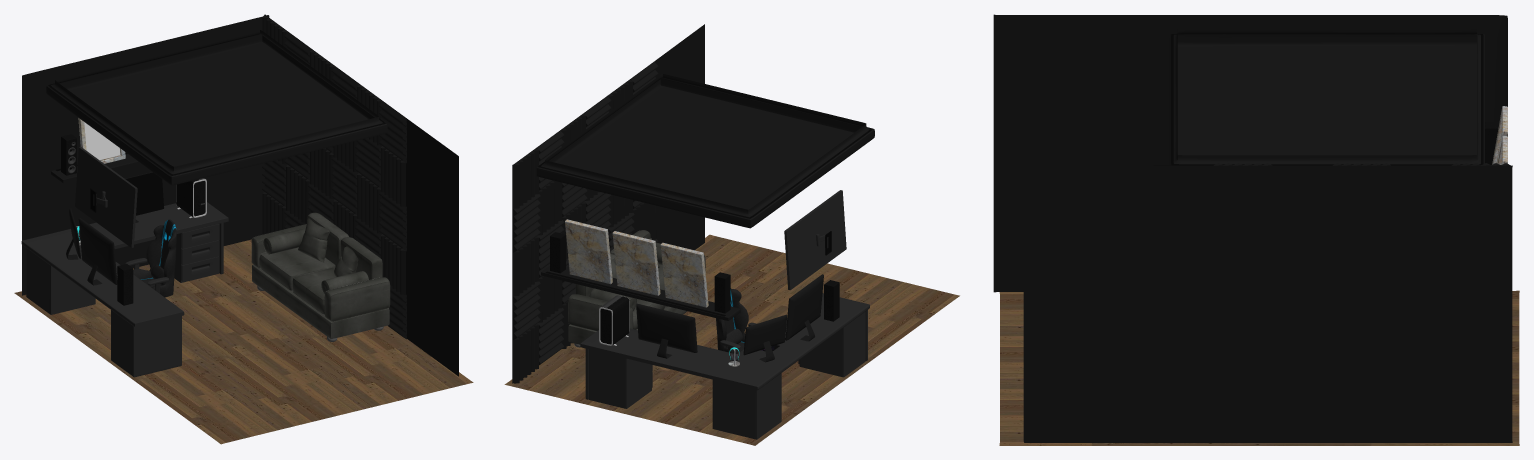
The model's file is modern-neon-room.glb.
3 renders of one model, left to right at view 1: azimuth 30°, elevation 25°; view 2: azimuth 150°, elevation 25°; view 3: azimuth 270°, elevation 25°, orthographic. The views are drawn at different scales.
Visible parts, largest first — view 1: MCN Floor.Shape, MCN Ceiling.Shape, MCN Textured Wall.Shape, MCN Walls.Shape, MCN Desk.Shape, MCN Couch.Shape, MCN TV.Shape, MCN Gaming Chair.Shape, MCN Screen Large.Shape, MCN Screen Medium.Shape, MCN Artwork Frame_dup_3.Shape, MCN Computer.Shape (+3 smaller); view 2: MCN Ceiling.Shape, MCN Floor.Shape, MCN Textured Wall.Shape, MCN Desk.Shape, MCN TV.Shape, MCN Couch.Shape, MCN Artwork Frame_dup_2.Shape, MCN Artwork Frame_dup_3.Shape, MCN Artwork Frame.Shape, MCN Screen Medium.Shape, MCN Shelf.Shape, MCN Screen Large.Shape (+6 smaller); view 3: MCN Textured Wall.Shape, MCN Ceiling.Shape, MCN Walls.Shape, MCN Floor.Shape.
Part boxes in pixels (box(x1,y1,x2,y2)): MCN Floor.Shape: box(14, 239, 473, 444); MCN Ceiling.Shape: box(46, 30, 387, 185); MCN Textured Wall.Shape: box(262, 14, 458, 376); MCN Walls.Shape: box(22, 15, 269, 295); MCN Desk.Shape: box(21, 202, 228, 377); MCN Couch.Shape: box(251, 212, 390, 341); MCN TV.Shape: box(75, 147, 137, 247); MCN Gaming Chair.Shape: box(125, 219, 176, 297); MCN Screen Large.Shape: box(78, 218, 117, 285); MCN Screen Medium.Shape: box(125, 172, 164, 222); MCN Artwork Frame_dup_3.Shape: box(78, 118, 125, 163); MCN Computer.Shape: box(176, 178, 206, 218); MCN Ceiling.Shape: box(536, 74, 874, 228); MCN Floor.Shape: box(504, 234, 959, 445); MCN Textured Wall.Shape: box(512, 24, 704, 383); MCN Desk.Shape: box(580, 293, 869, 439); MCN TV.Shape: box(784, 190, 846, 290); MCN Couch.Shape: box(568, 230, 705, 347); MCN Artwork Frame_dup_2.Shape: box(565, 219, 612, 284); MCN Artwork Frame_dup_3.Shape: box(660, 242, 708, 307); MCN Artwork Frame.Shape: box(612, 231, 660, 295); MCN Screen Medium.Shape: box(636, 303, 697, 358); MCN Shelf.Shape: box(541, 266, 740, 320); MCN Screen Large.Shape: box(785, 274, 823, 341); MCN Textured Wall.Shape: box(1023, 163, 1512, 442); MCN Ceiling.Shape: box(1169, 28, 1484, 165); MCN Walls.Shape: box(993, 14, 1507, 292); MCN Floor.Shape: box(999, 290, 1519, 445).
Bounding box in the file's own units: 3.61 × 3.01 × 5.19.
Materials: 37 (32 with a texture image).
